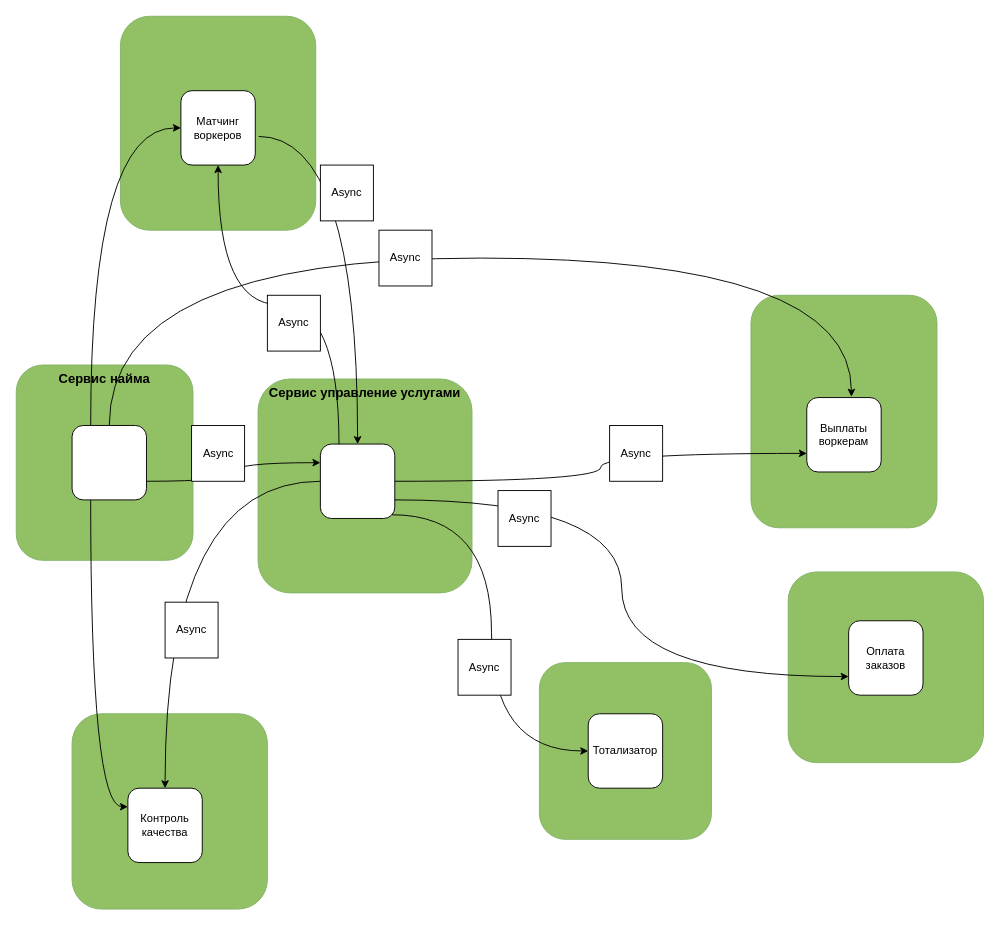
Image size: 1000x925. Some labels were removed from this diagram. Here are the shapes that lost their labels. From the top down, the box of each, then its label:
(120, 15, 316, 230): Сервис матчинга
(750, 294, 937, 528): Сервис оплаты воркерам
(71, 425, 146, 500): Найм воркеров
(319, 443, 395, 518): Управление заказами
(787, 571, 983, 763): Сервис оплаты заказов
(538, 662, 711, 839): Сервис тотализатора
(71, 713, 267, 909): Сервис контроля качества
